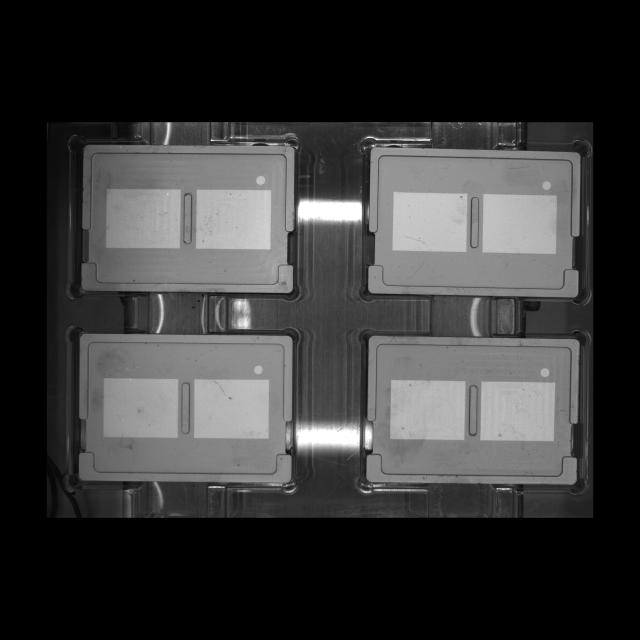product: (64, 322, 303, 494), (65, 132, 302, 302), (355, 325, 587, 495), (359, 135, 588, 306)
